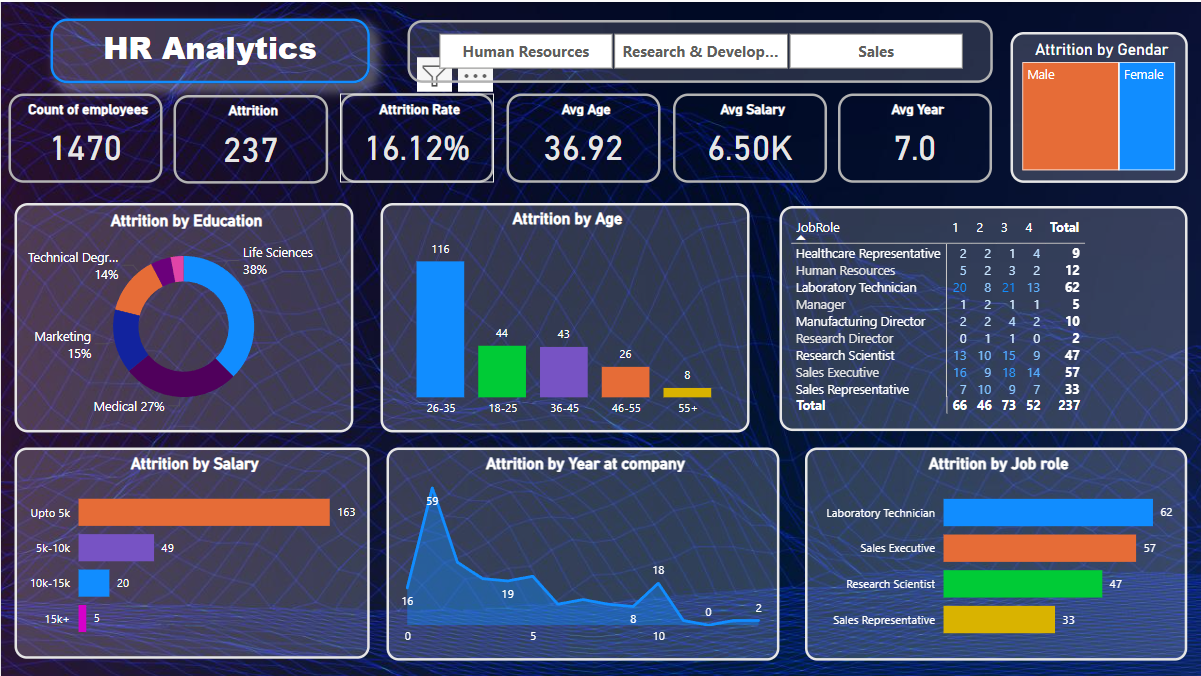

This screenshot's page, from the dashboard's own definition file:
{"tool":"powerbi","page":{"name":"Page 1","canvas":[1280,720],"ordinal":0},"visuals":[{"type":"card","title":"Count of employees","fields":{"Values":["CountNonNull(HR_Analytics.EmpID)"]},"box":[7.4,96.7,163.6,94.8],"z":0},{"type":"donutChart","title":"Attrition by Education","fields":{"Category":["HR_Analytics.EducationField"],"Y":["Sum(HR_Analytics.Attritioncount)"]},"box":[14.3,213.1,359.5,243.4],"z":1000},{"type":"columnChart","title":"Attrition by Age","fields":{"Category":["HR_Analytics.AgeGroup"],"Y":["Sum(HR_Analytics.Attritioncount)"]},"box":[402.4,213.1,391.3,243.4],"z":2000},{"type":"pivotTable","fields":{"Rows":["HR_Analytics.JobRole"],"Values":["Sum(HR_Analytics.Attritioncount)"],"Columns":["HR_Analytics.JobSatisfaction"]},"box":[825.5,216.3,432.6,238.6],"z":3000},{"type":"barChart","title":"Attrition by Salary","fields":{"Category":["HR_Analytics.SalarySlab"],"Y":["Sum(HR_Analytics.Attritioncount)"]},"box":[14.3,472.4,377,224.3],"z":4000},{"type":"barChart","title":"Attrition by Job role","fields":{"Category":["HR_Analytics.JobRole"],"Y":["Sum(HR_Analytics.Attritioncount)"]},"box":[852.6,472.4,405.6,225.9],"z":5000},{"type":"areaChart","title":"Attrition by Year at company","fields":{"Category":["HR_Analytics.YearsAtCompany"],"Y":["Sum(HR_Analytics.Attritioncount)"]},"box":[408.8,472.4,416.7,225.9],"z":6000},{"type":"card","title":"Attrition","fields":{"Values":["Sum(HR_Analytics.Attritioncount)"]},"box":[182.9,98.6,163.8,93.8],"z":7000},{"type":"card","title":"Attrition Rate","fields":{"Values":["HR_Analytics.Attritionrate"]},"box":[358.9,96.7,163.6,94.8],"z":8000},{"type":"card","title":"Avg Age","fields":{"Values":["Avg(HR_Analytics.Age)"]},"box":[535.6,96.7,163.6,94.8],"z":9000},{"type":"card","title":"Avg Salary","fields":{"Values":["Avg(HR_Analytics.MonthlyIncome)"]},"box":[712.2,96.7,163.6,94.8],"z":10000},{"type":"card","title":"Avg Year","fields":{"Values":["Avg(HR_Analytics.YearsAtCompany)"]},"box":[887,96.7,163.6,94.8],"z":11000},{"type":"treemap","title":"Attrition by Gendar","fields":{"Group":["HR_Analytics.Gender"],"Values":["Sum(HR_Analytics.Attritioncount)"]},"box":[1071.1,31.6,187.8,159.9],"z":12000},{"type":"slicer","fields":{"Values":["HR_Analytics.Department"]},"box":[431.1,19.1,620.3,66.8],"z":13000},{"type":"textbox","box":[52.5,17.5,338.8,68.4],"z":13001}]}

Visuals, with their boxes in screenshot pixels (x1, y1, x2, y2), scaled from the page's 1280x720 canvas onto the 1201x676 screenshot:
"Count of employees" card: 7,91,160,180
"Attrition by Education" donutChart: 13,200,351,429
"Attrition by Age" columnChart: 378,200,745,429
pivotTable - HR_Analytics.JobRole x Sum(HR_Analytics.Attritioncount): 775,203,1180,427
"Attrition by Salary" barChart: 13,444,367,654
"Attrition by Job role" barChart: 800,444,1181,656
"Attrition by Year at company" areaChart: 384,444,775,656
"Attrition" card: 172,93,325,181
"Attrition Rate" card: 337,91,490,180
"Avg Age" card: 503,91,656,180
"Avg Salary" card: 668,91,822,180
"Avg Year" card: 832,91,986,180
"Attrition by Gendar" treemap: 1005,30,1181,180
slicer - HR_Analytics.Department: 404,18,987,81
textbox: 49,16,367,81
